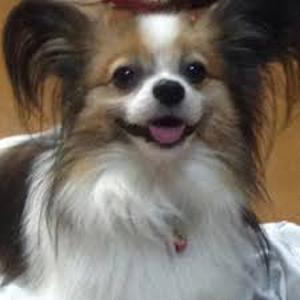yell: (0, 0, 299, 299)
